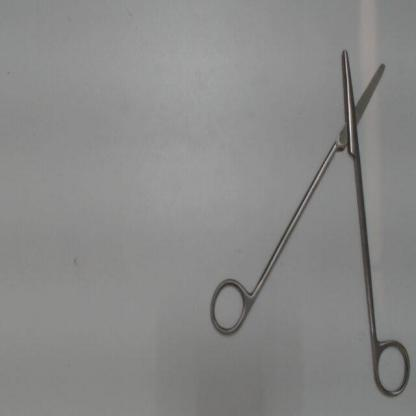9 Metzenbaum Scissors: (206, 44, 413, 404)
